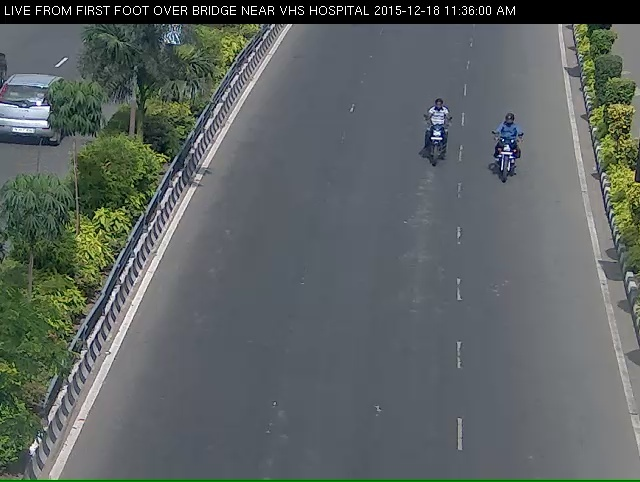Person: (477, 122, 535, 204), (403, 100, 460, 175)
